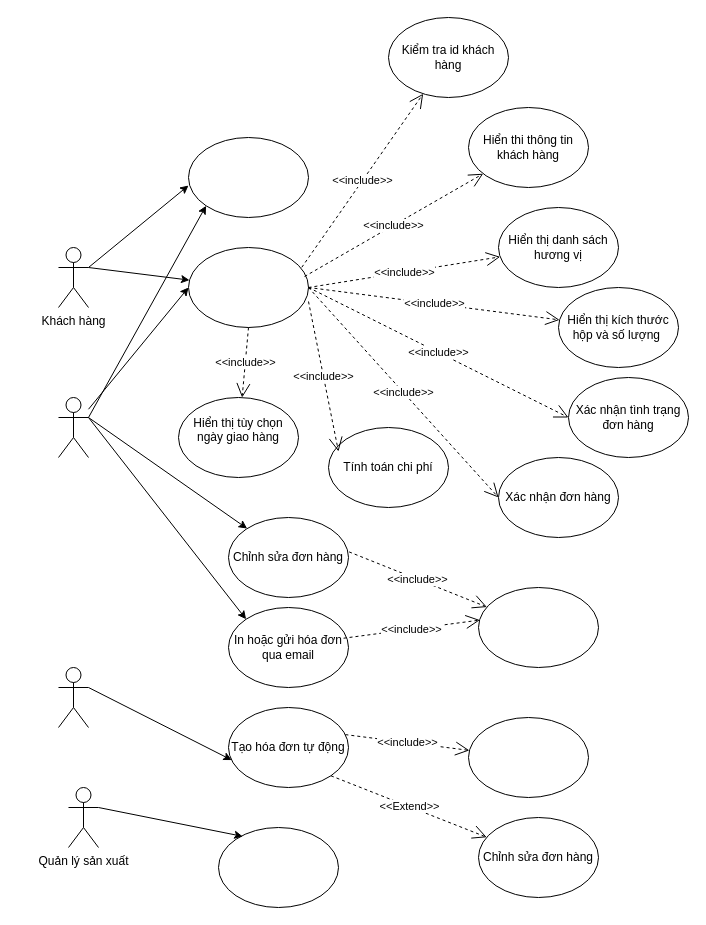
Some shapes in this 706 by 925 pixel diagram are drawn without their labels. The centre of each missing label's shape, as x and y in pixels:
Ghi nhận đơn hàng: [248,287]
Hệ thống: [73,697]
Nhân viên văn phòng: [73,427]
Thêm khách hàng mới: [248,177]
Tính toán tổng tiền: [528,757]
Tạo hóa đơn mới: [538,627]
Xem danh sách đơn hàng: [278,867]
